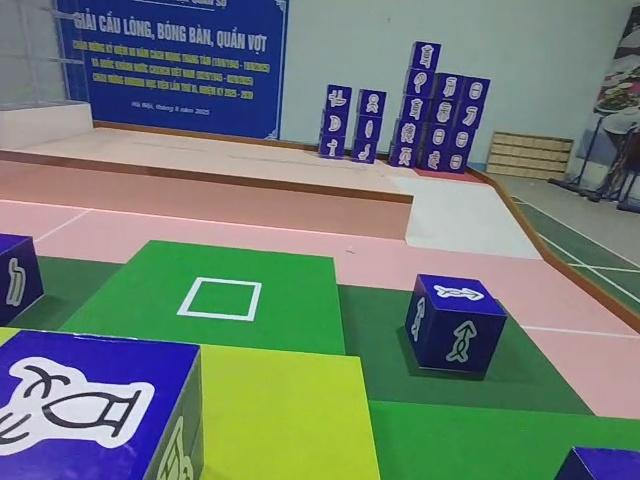R2 Real Blue: (1, 328, 201, 480), (402, 275, 505, 380), (0, 229, 46, 328)
